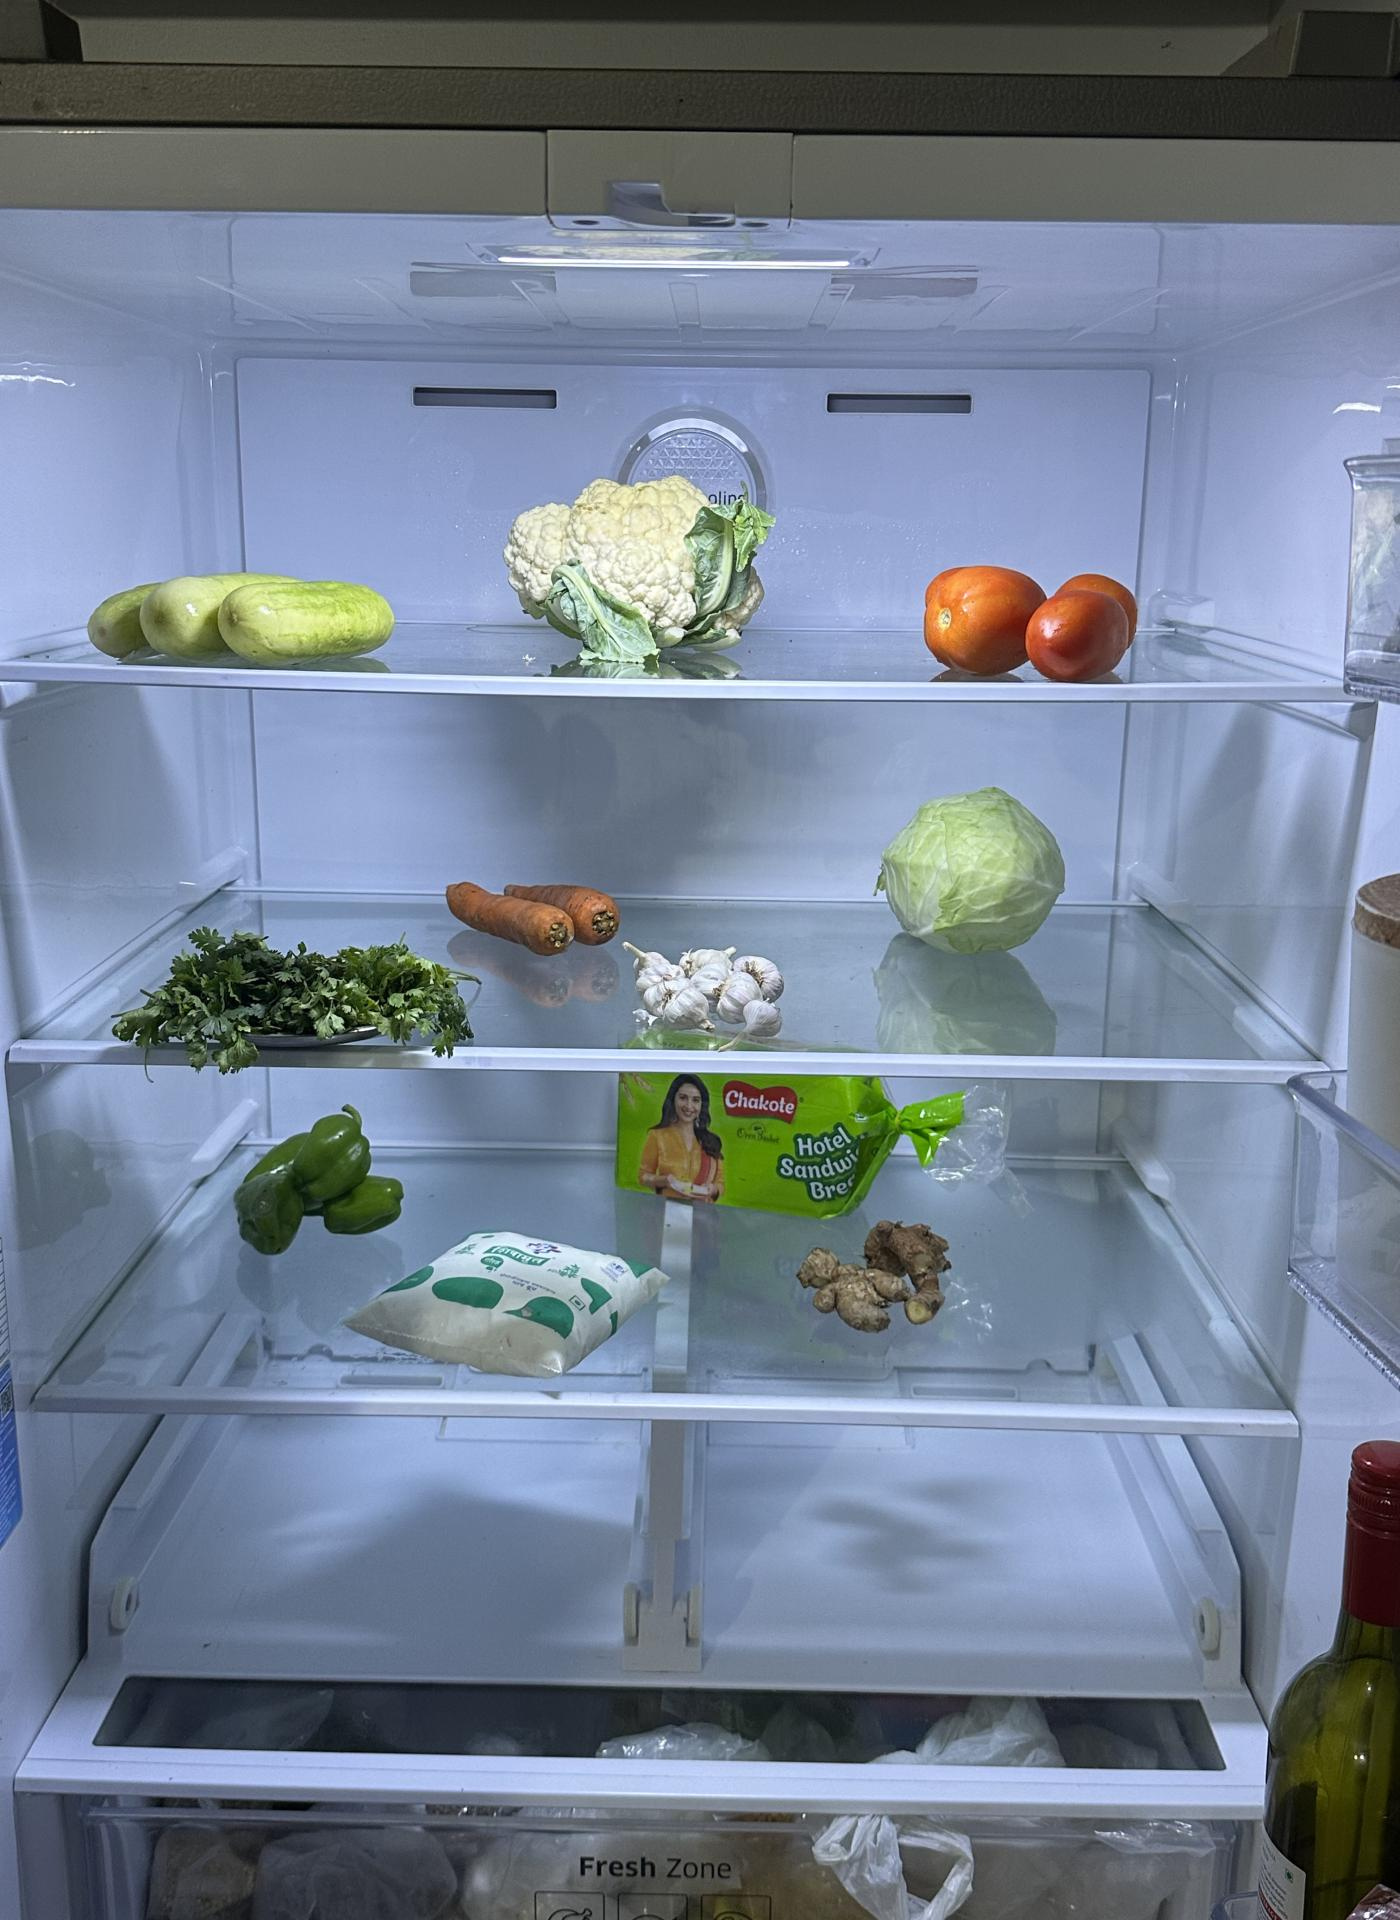bread: (605, 1060, 915, 1218)
cabbage: (877, 784, 1072, 954)
capsicum: (234, 1106, 407, 1261)
carrots: (449, 872, 628, 960)
cauliflower: (501, 468, 774, 644)
coriander: (115, 927, 462, 1066)
cucumber: (83, 558, 400, 668)
garlic: (631, 939, 781, 1051)
ginger: (798, 1212, 965, 1340)
milk: (338, 1222, 658, 1374)
tomato: (917, 563, 1148, 687)
